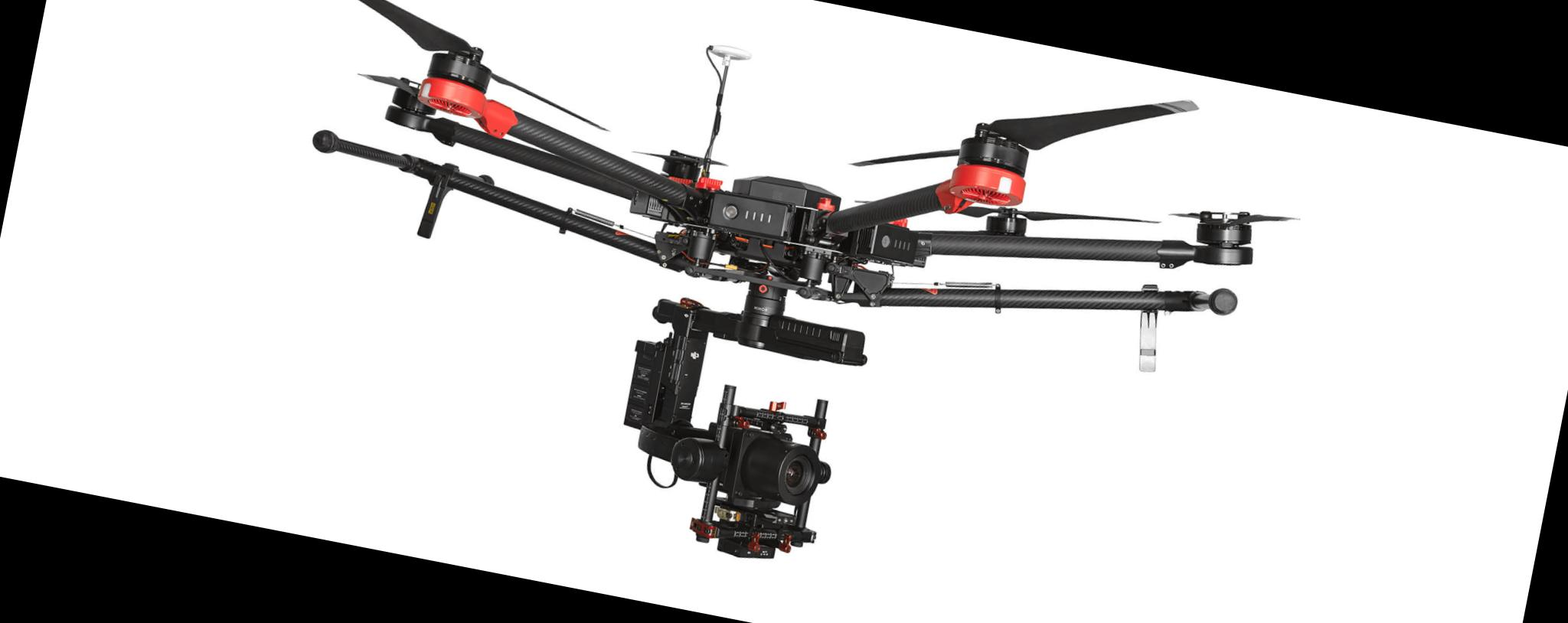drone: (158, 0, 1374, 484)
